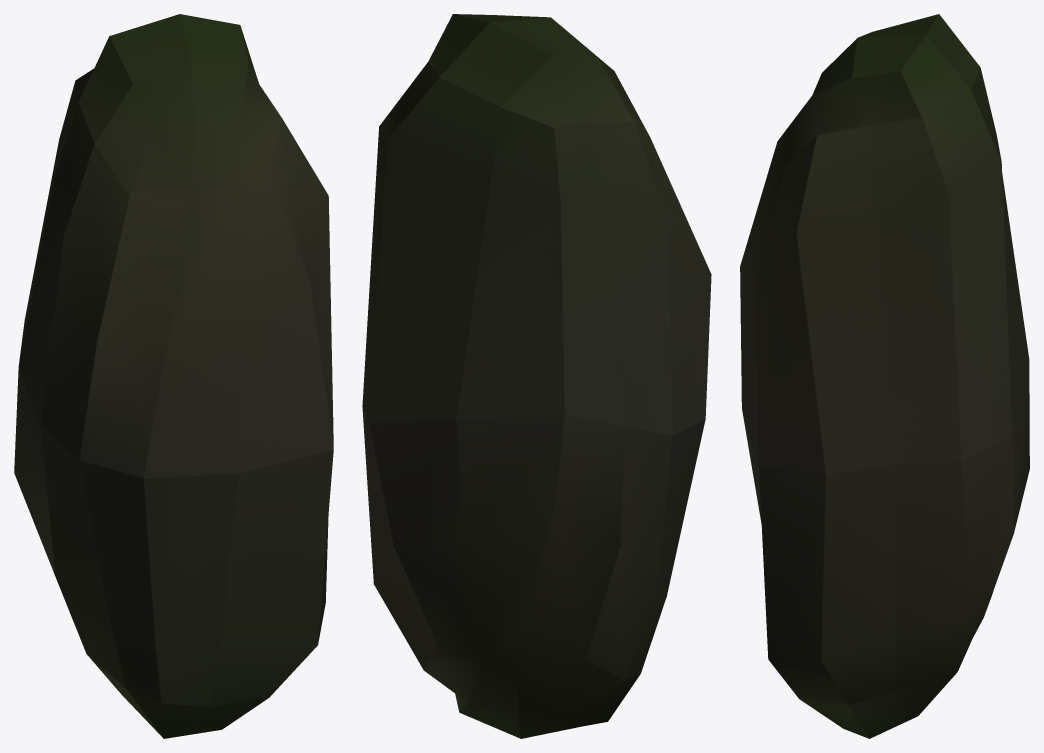
File: Rock.fbx
3 views of the same model, side by side, from view 1: azimuth 30°, elevation 25°; view 2: azimuth 150°, elevation 25°; view 3: azimuth 270°, elevation 25° (orthographic). The views are drawn at different scales.
Parts seen in each view (by area): view 1: pCube31; view 2: pCube31; view 3: pCube31.
Part boxes in pixels (x1,y1,x2,y2): pCube31: (14, 14, 333, 738); pCube31: (362, 14, 711, 738); pCube31: (740, 14, 1029, 738).
Size of the model in its own units: 229 by 583 by 221.
